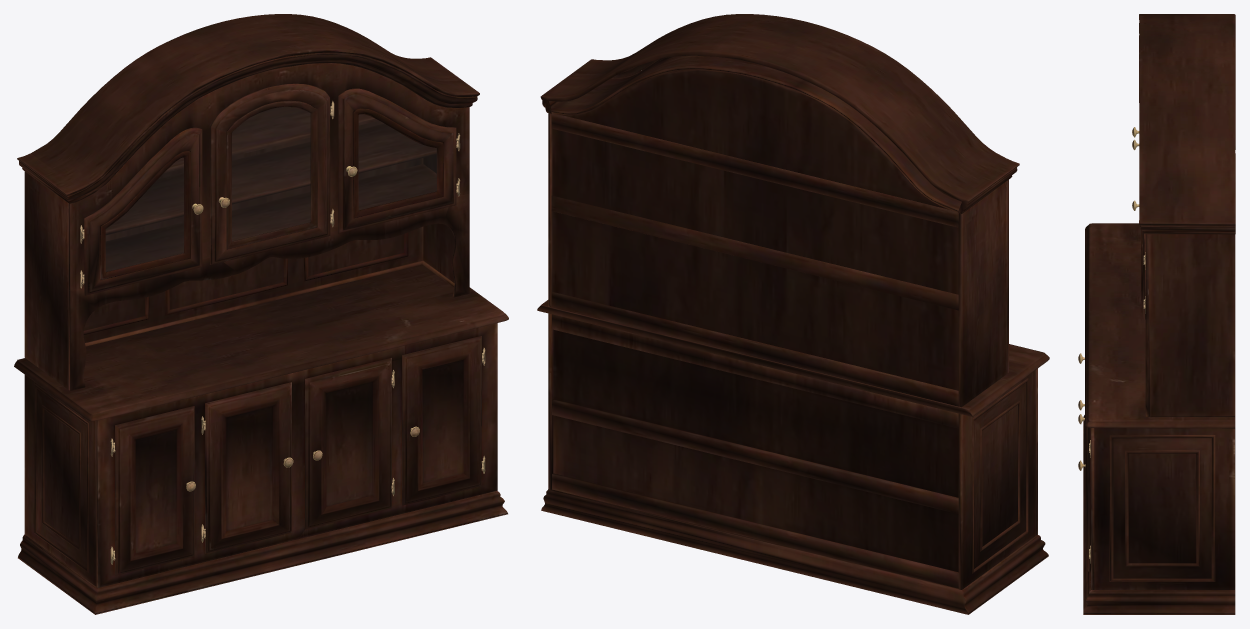
File: vintage_cabinet_01.glb
The picture shows the model from 3 angles, left to right: view 1: azimuth 30°, elevation 25°; view 2: azimuth 150°, elevation 25°; view 3: azimuth 270°, elevation 25°; orthographic projection. The views are drawn at different scales.
Visible parts, largest first — view 1: vintage_cabinet_01_body, vintage_cabinet_01_door_01; view 2: vintage_cabinet_01_body; view 3: vintage_cabinet_01_body.
Boxes of the visible parts, x1,y1,x2,y2 form: vintage_cabinet_01_body: [14, 14, 508, 614]; vintage_cabinet_01_door_01: [106, 107, 436, 271]; vintage_cabinet_01_body: [537, 14, 1049, 614]; vintage_cabinet_01_body: [1078, 14, 1235, 614].
Bounding box in the file's own units: 2.02 × 2.23 × 0.6698.
3 materials, 2 textured.
